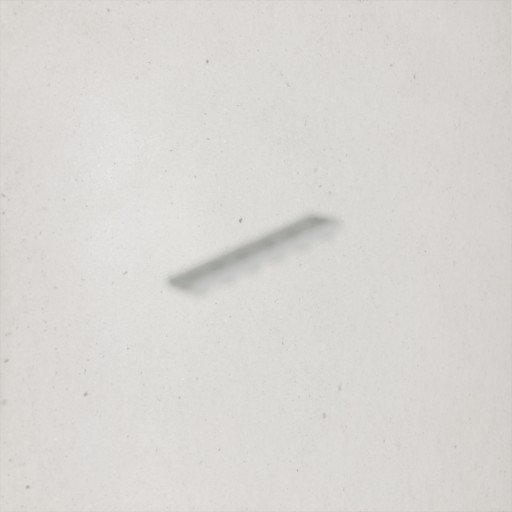lego: (163, 212, 346, 299)
